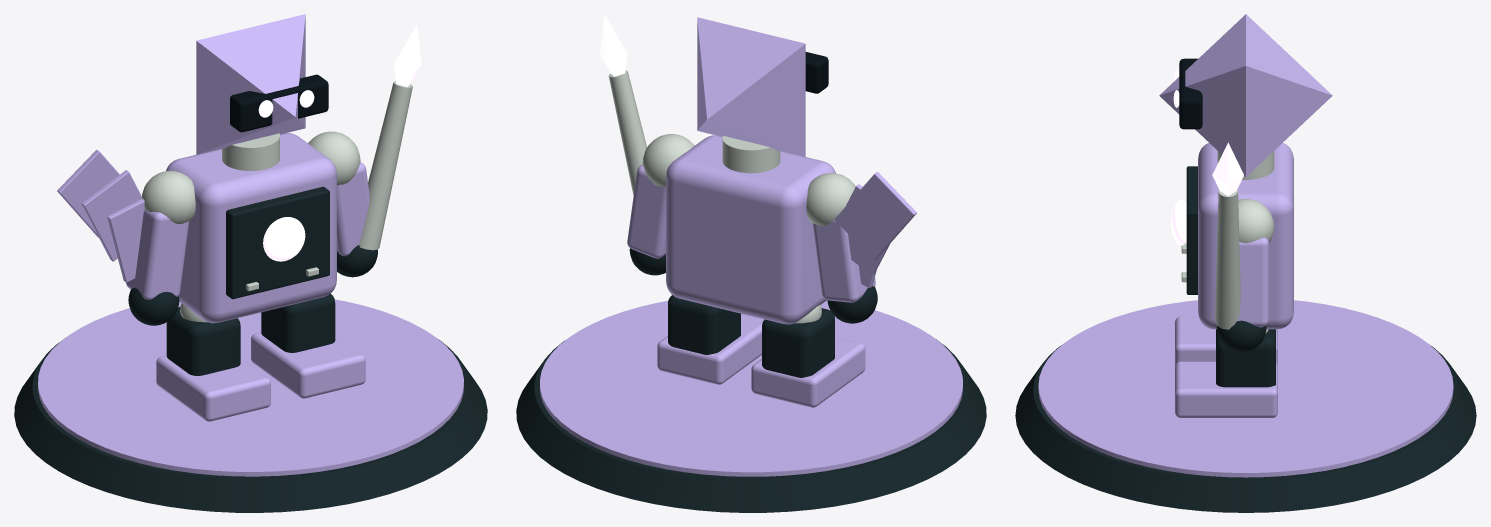
Rendered from vega.glb.
3 renders of one model, left to right at view 1: azimuth 30°, elevation 25°; view 2: azimuth 150°, elevation 25°; view 3: azimuth 270°, elevation 25°, orthographic. The views are drawn at different scales.
Visible parts, largest first — view 1: Character, Vega, Display plinth; view 2: Character, Vega, Display plinth; view 3: Vega, Character, Display plinth.
Part boxes in pixels (bbox=[...]): Character: bbox=[57, 14, 421, 421]; Vega: bbox=[38, 299, 463, 476]; Display plinth: bbox=[14, 339, 487, 512]; Character: bbox=[600, 14, 916, 407]; Vega: bbox=[540, 300, 962, 476]; Display plinth: bbox=[516, 339, 986, 512]; Vega: bbox=[1038, 300, 1453, 477]; Character: bbox=[1159, 14, 1332, 417]; Display plinth: bbox=[1015, 346, 1476, 512].
Bounding box in the file's own units: 2.6 × 2.34 × 2.6.
